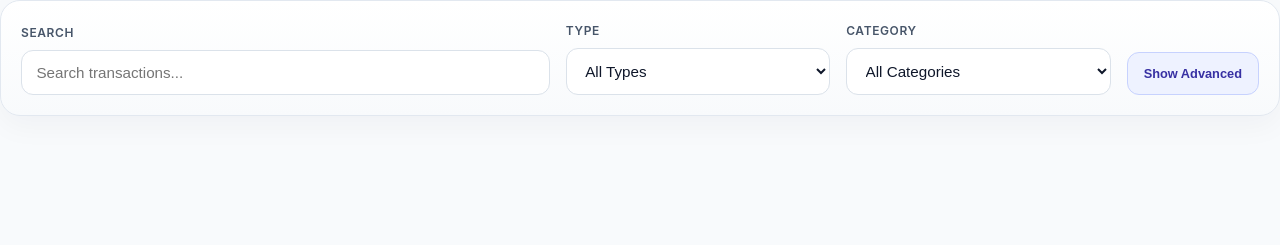
Test: TransactionFilter › shows advanced filters when toggle is clicked
The width and height of the screenshot is (1280, 245).
# Click toggle
What coordinates should you click on to do the following:
click the button with test id "advanced-toggle"
I would click on:
 (1193, 74)
Its box is [1127,52,1259,95].
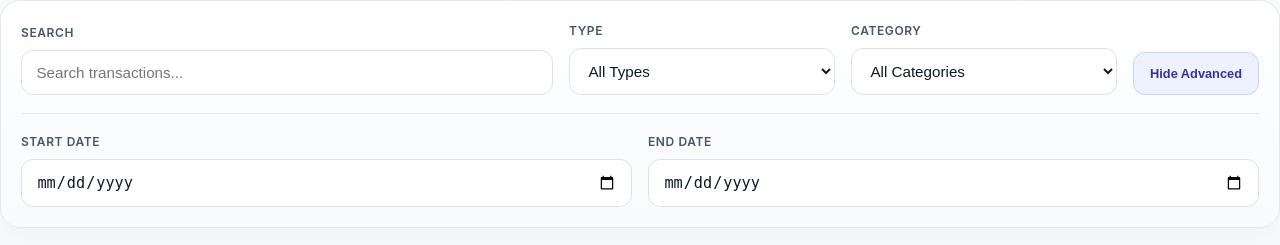
Now the date field with test id "start-date" is shown, box [21,159,632,207]
Now the date field with test id "end-date" is shown, box [648,159,1259,207]
